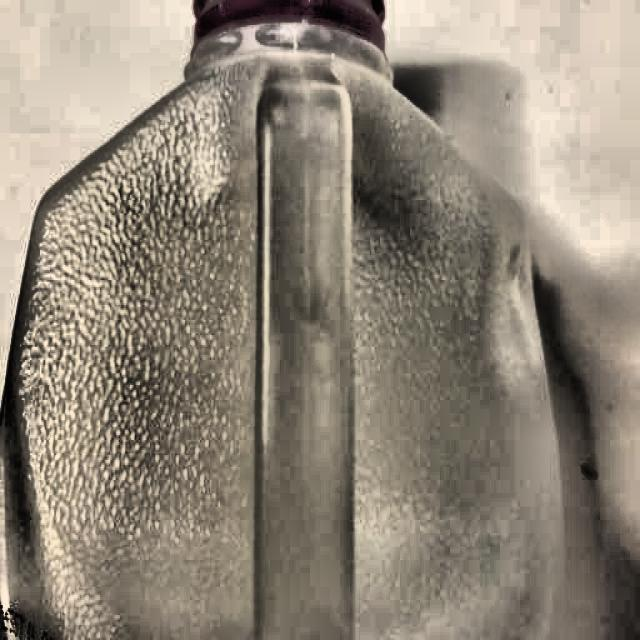plastic: (16, 0, 640, 485)
